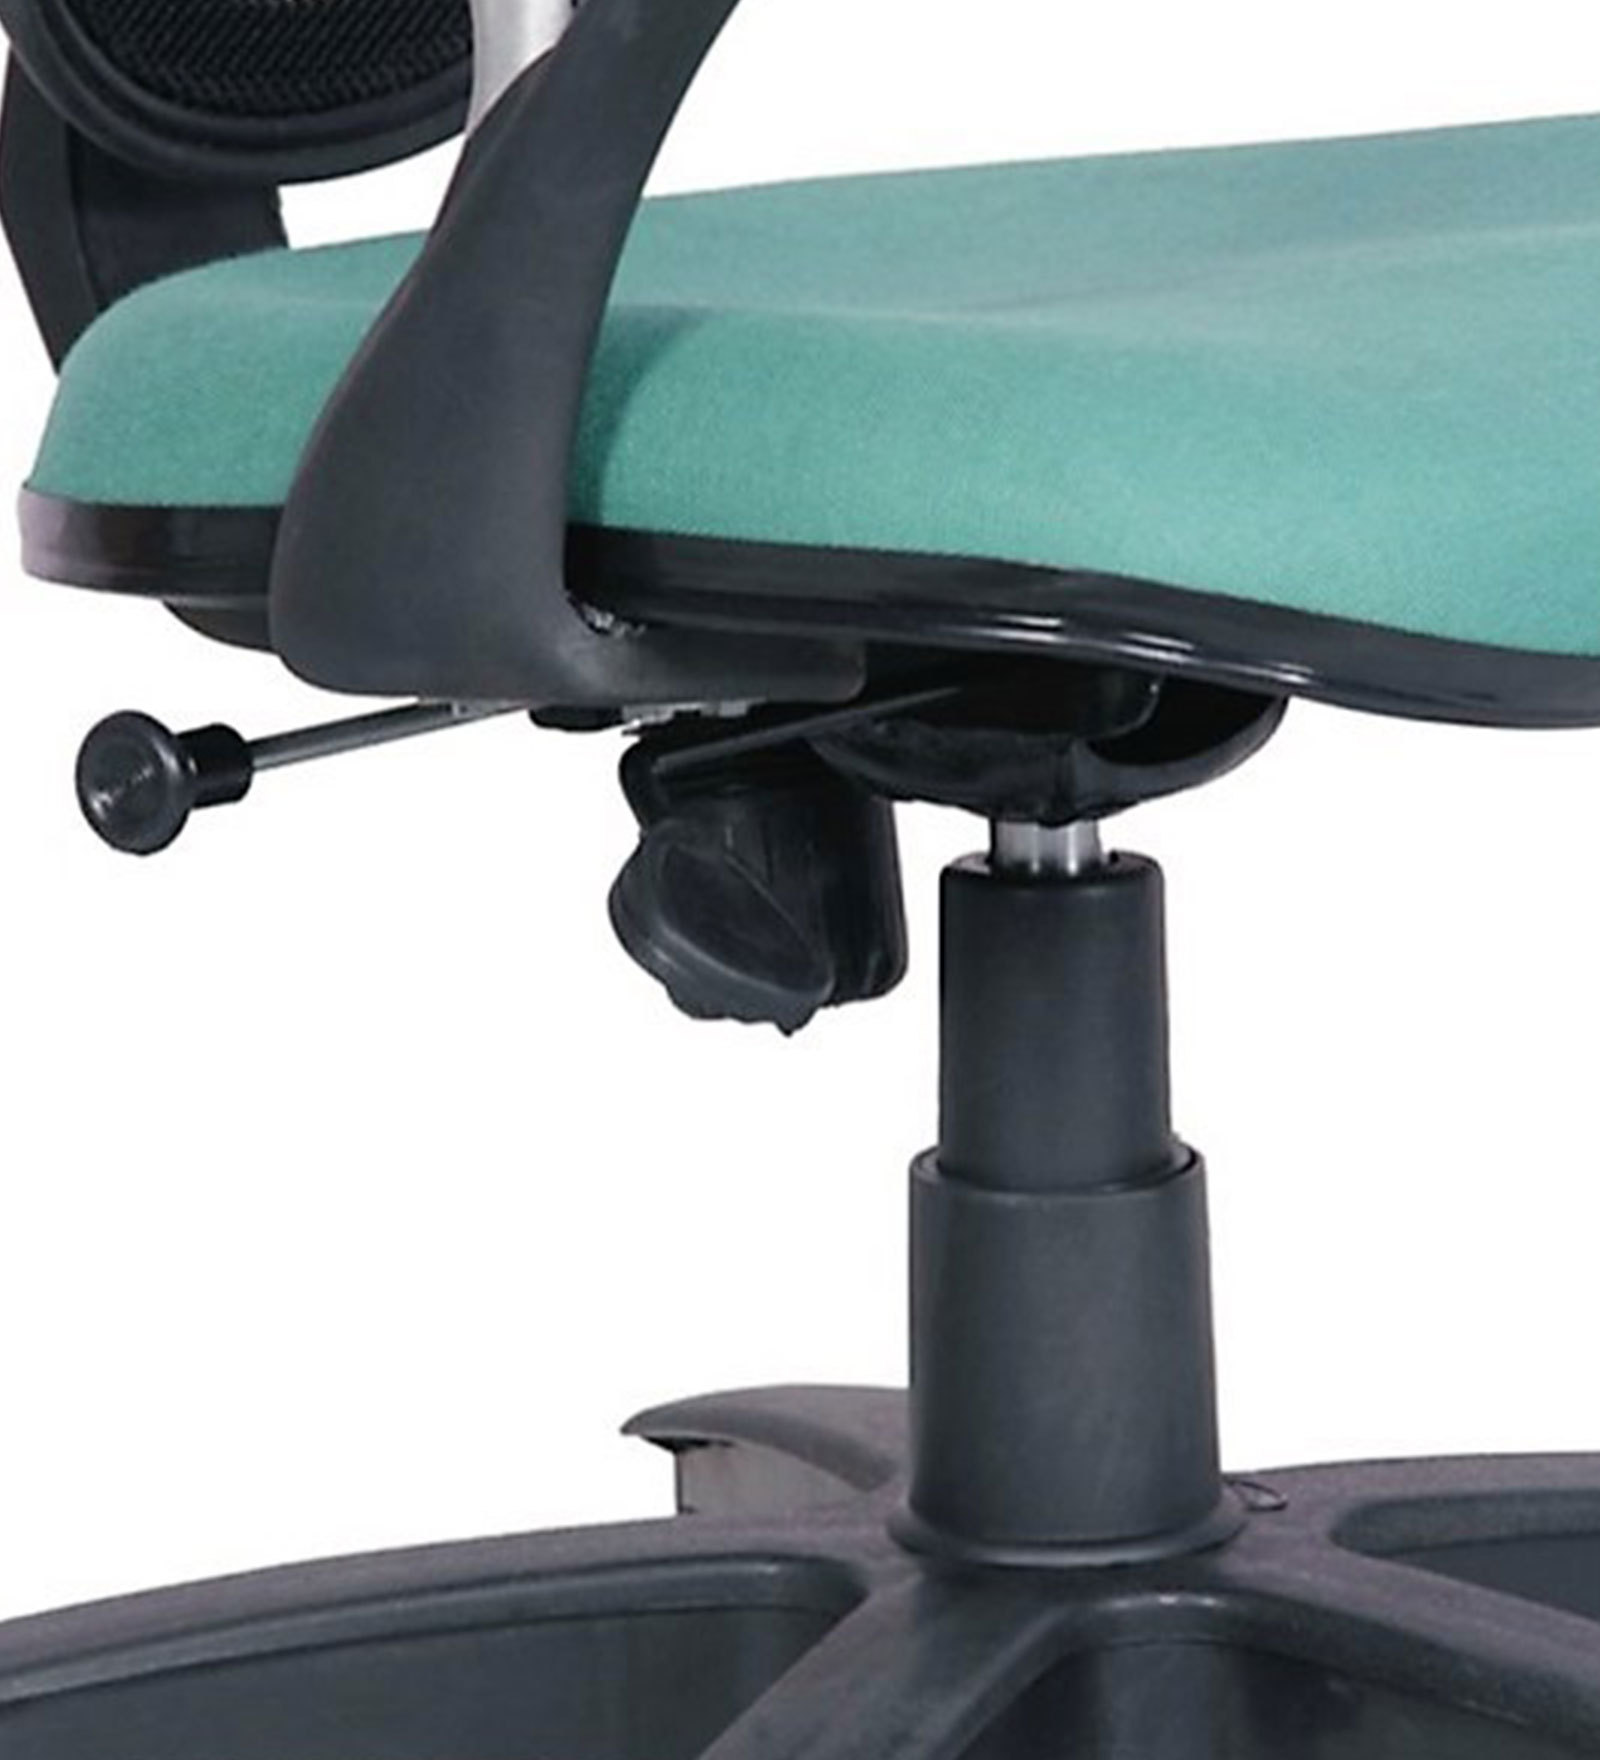Triangular Back Ergonomic Chair with Green Seat by Adiko Systems: (31, 18, 1572, 1734)
